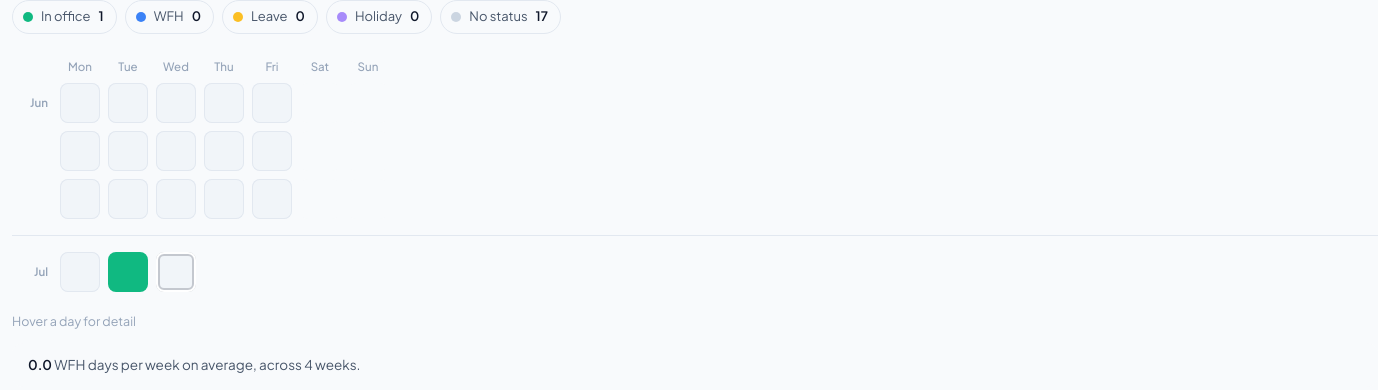
Test: CheckInLog › surfaces the clock-in time on hover
Hover over the picture named "In office": (128, 272) [108,252,148,292]
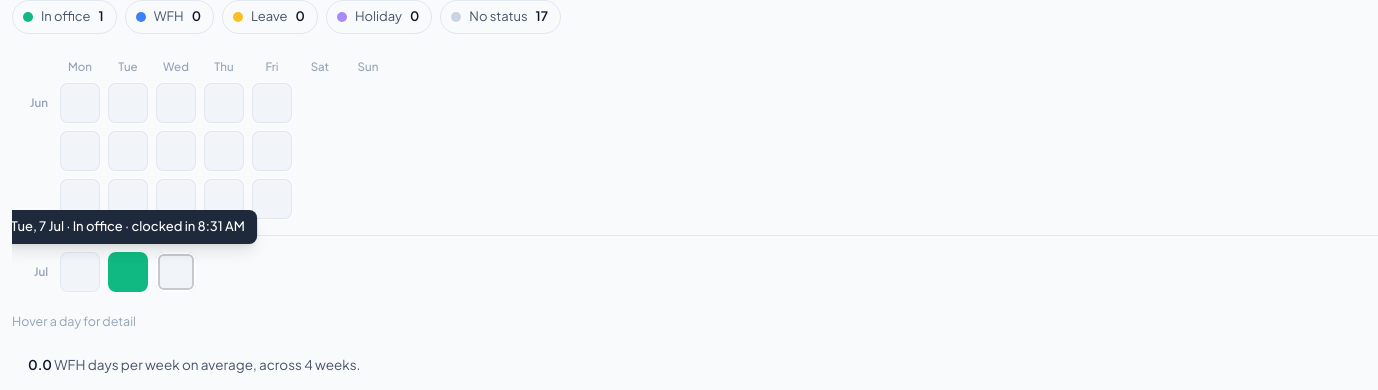
Check: the tooltip shows "clocked in 8:31 AM", box [11,218,245,234]
